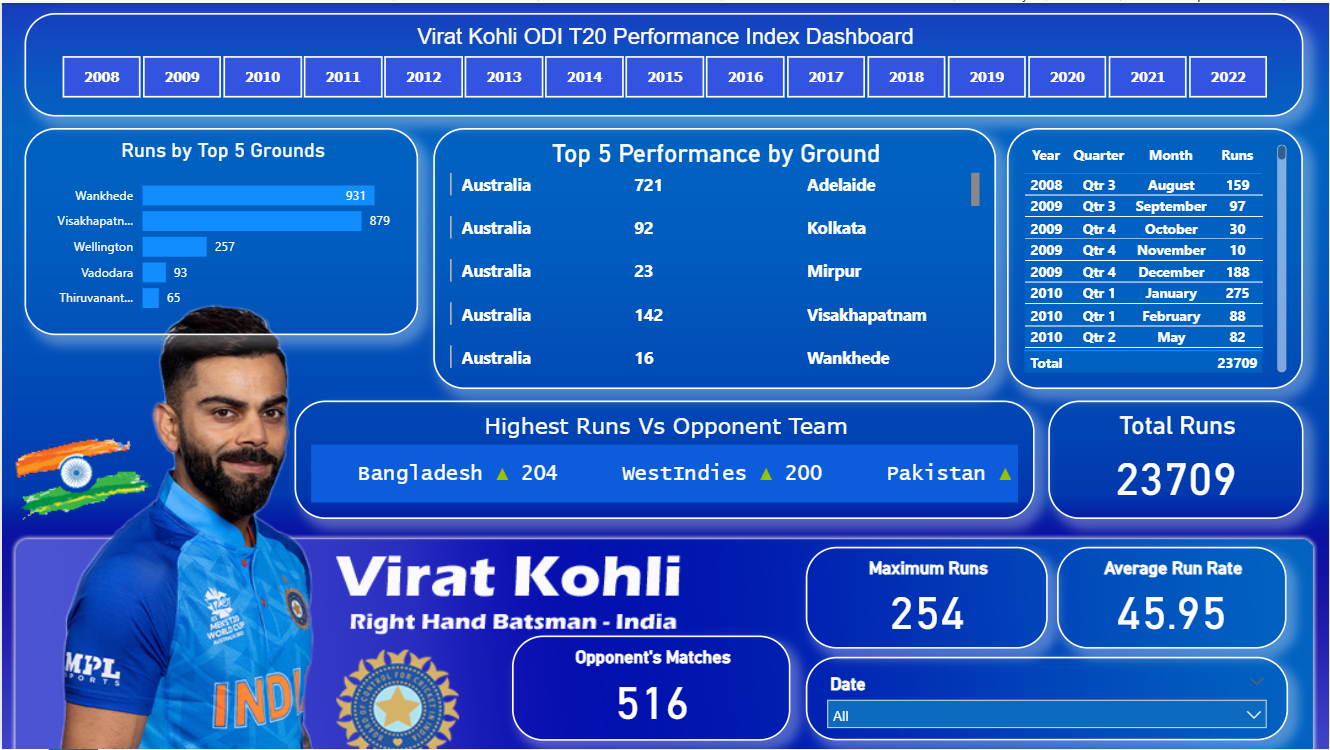

The page's visual inventory and layout, read from the dashboard file:
{"tool":"powerbi","page":{"name":"Page 1","canvas":[1280,720],"ordinal":0},"visuals":[{"type":"slicer","title":"Virat Kohli ODI T20 Performance Index Dashboard","fields":{"Values":["virat_db kohli_odi_t20_stats.date.Variation.Date Hierarchy.Year"]},"box":[21.7,9.7,1234.2,100.1],"z":0},{"type":"barChart","title":"Runs by Top 5 Grounds","fields":{"Category":["virat_db kohli_odi_t20_stats.ground"],"Y":["Sum(virat_db kohli_odi_t20_stats.runs)"]},"box":[22,120.8,380.1,200.3],"z":1000},{"type":"tableEx","fields":{"Values":["virat_db kohli_odi_t20_stats.date.Variation.Date Hierarchy.Year","virat_db kohli_odi_t20_stats.date.Variation.Date Hierarchy.Quarter","virat_db kohli_odi_t20_stats.date.Variation.Date Hierarchy.Month","Sum(virat_db kohli_odi_t20_stats.runs)"]},"box":[970,120.6,285.9,252.1],"z":2000},{"type":"ScrollingTextVisual1448795304508","title":"Highest Runs Vs Opponent Team","fields":{"Category":["virat_db kohli_odi_t20_stats.opponent"],"Measure Deviation":["Max(virat_db kohli_odi_t20_stats.runs)"]},"box":[282.3,383.6,714.2,114.6],"z":3000},{"type":"card","title":"Opponent''s Matches","fields":{"Values":["CountNonNull(virat_db kohli_odi_t20_stats.opponent)"]},"box":[492.2,610.5,269,101.3],"z":4000},{"type":"card","title":"Total Runs","fields":{"Values":["Sum(virat_db kohli_odi_t20_stats.runs)"]},"box":[1009.8,383.6,246.1,114.6],"z":5000},{"type":"multiRowCard","title":"Top 5 Performance by Ground","fields":{"Values":["virat_db kohli_odi_t20_stats.opponent","Sum(virat_db kohli_odi_t20_stats.runs)","virat_db kohli_odi_t20_stats.ground"]},"box":[416.2,120.6,542.9,252.1],"z":6000},{"type":"card","title":"Maximum Runs","fields":{"Values":["Max(virat_db kohli_odi_t20_stats.runs)"]},"box":[776.2,525,233.8,98.8],"z":7000},{"type":"card","title":"Average Run Rate","fields":{"Values":["Avg(virat_db kohli_odi_t20_stats.runs)"]},"box":[1018.8,525,221.2,98.8],"z":8000},{"type":"slicer","fields":{"Values":["virat_db kohli_odi_t20_stats.date.Variation.Date Hierarchy.Year","virat_db kohli_odi_t20_stats.date.Variation.Date Hierarchy.Quarter","virat_db kohli_odi_t20_stats.date.Variation.Date Hierarchy.Month","virat_db kohli_odi_t20_stats.date.Variation.Date Hierarchy.Day"]},"box":[775.7,631,465.7,80.8],"z":9000}]}

Visuals, with their boxes in screenshot pixels (x1, y1, x2, y2), scaled from the page's 1280x720 canvas onto the 1330x750 screenshot:
"Virat Kohli ODI T20 Performance Index Dashboard" slicer: box(23, 10, 1305, 114)
"Runs by Top 5 Grounds" barChart: box(23, 126, 418, 334)
tableEx - virat_db kohli_odi_t20_stats.date.Variation.Date Hierarchy.Year x virat_db kohli_odi_t20_stats.date.Variation.Date Hierarchy.Quarter: box(1008, 126, 1305, 388)
"Highest Runs Vs Opponent Team" ScrollingTextVisual1448795304508: box(293, 400, 1035, 519)
"Opponent''s Matches" card: box(511, 636, 791, 741)
"Total Runs" card: box(1049, 400, 1305, 519)
"Top 5 Performance by Ground" multiRowCard: box(432, 126, 997, 388)
"Maximum Runs" card: box(807, 547, 1049, 650)
"Average Run Rate" card: box(1059, 547, 1288, 650)
slicer - virat_db kohli_odi_t20_stats.date.Variation.Date Hierarchy.Year x virat_db kohli_odi_t20_stats.date.Variation.Date Hierarchy.Quarter: box(806, 657, 1290, 741)
